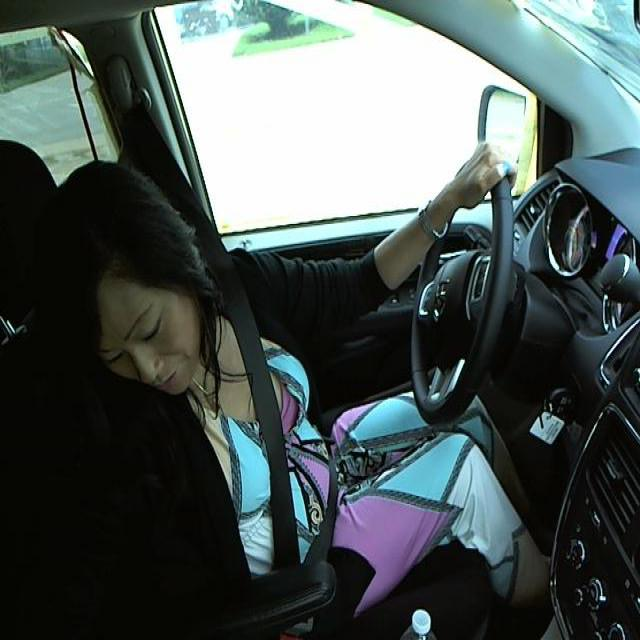seatbelt: (205, 269, 353, 572)
